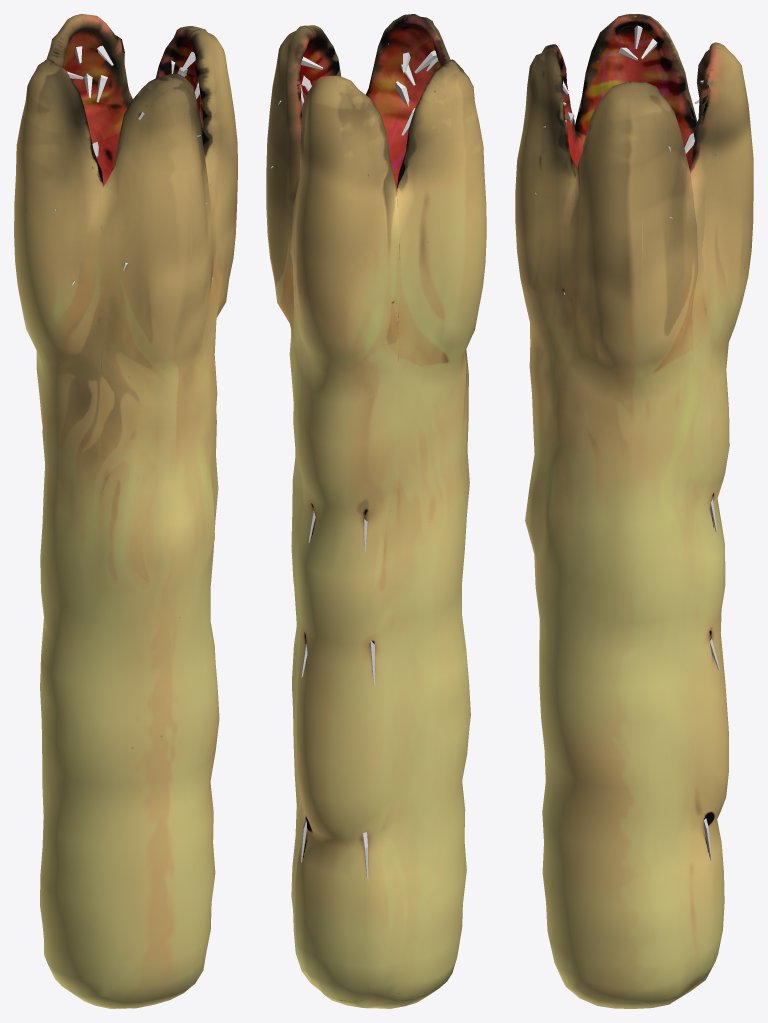
Rendered from TexturedWorm.fbx.
The picture shows the model from 3 angles, left to right: view 1: azimuth 30°, elevation 25°; view 2: azimuth 150°, elevation 25°; view 3: azimuth 270°, elevation 25°; orthographic projection.
Visible parts, largest first — view 1: Cube.016; view 2: Cube.016; view 3: Cube.016.
Part boxes in pixels (x1,y1,x2,y2): Cube.016: (14,14,237,1008); Cube.016: (266,14,486,1008); Cube.016: (515,14,753,1008).
Bounding box in the file's own units: 181 × 788 × 180.
